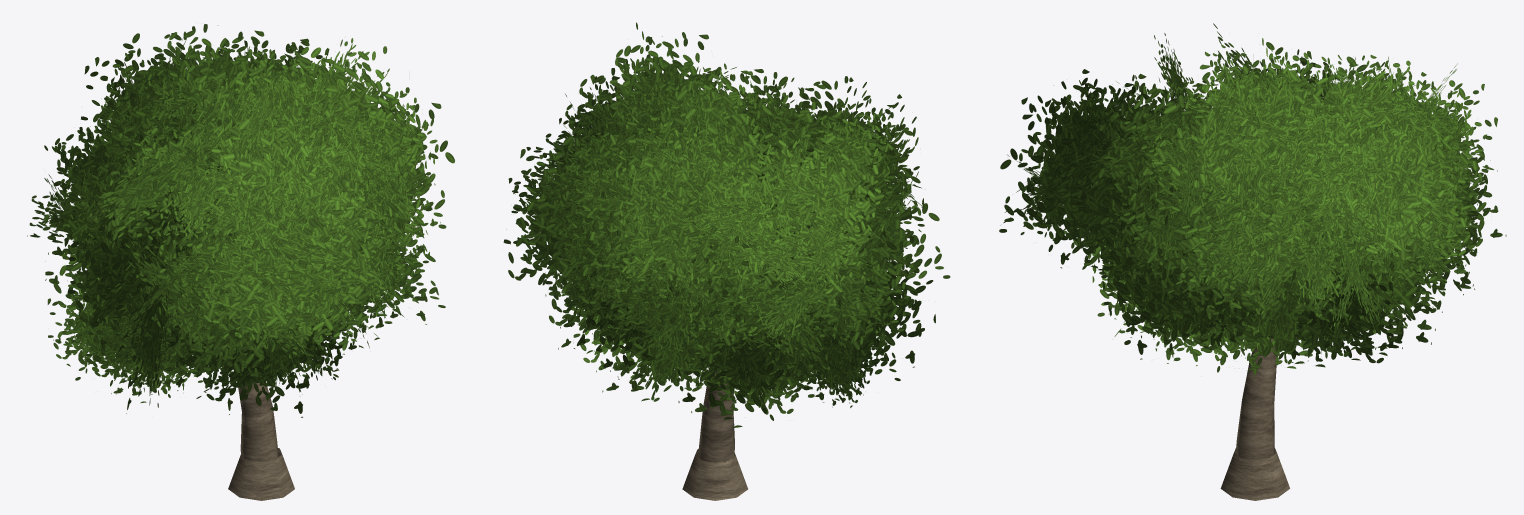
The model's file is tree_chenar_a.glb.
3 views of the same model, side by side, from view 1: azimuth 30°, elevation 25°; view 2: azimuth 150°, elevation 25°; view 3: azimuth 270°, elevation 25° (orthographic). The views are drawn at different scales.
Parts seen in each view (by area): view 1: tree_chenar_a; view 2: tree_chenar_a; view 3: tree_chenar_a.
Part boxes in pixels (x1,y1,x2,y2): tree_chenar_a: [27, 24, 454, 500]; tree_chenar_a: [503, 22, 950, 500]; tree_chenar_a: [999, 23, 1506, 500].
Size of the model in its own units: 7.12 by 7.74 by 8.2.
Materials: 2 (2 with a texture image).
